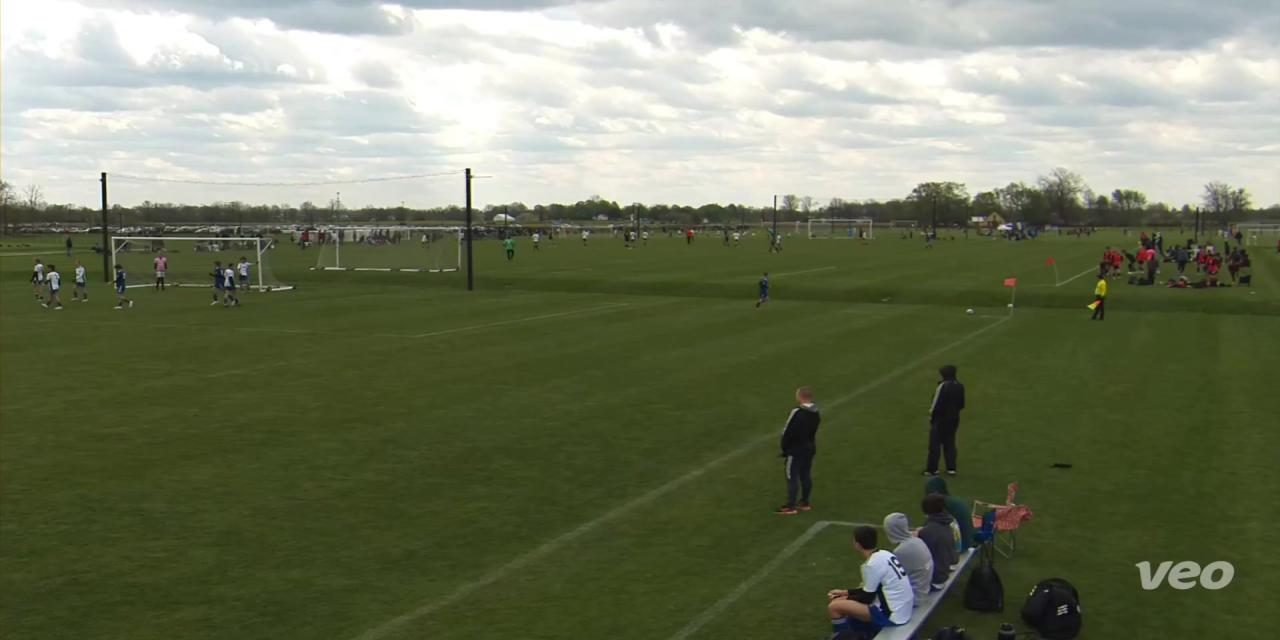goal: (94, 231, 316, 295)
sports ball: (965, 298, 978, 320)
